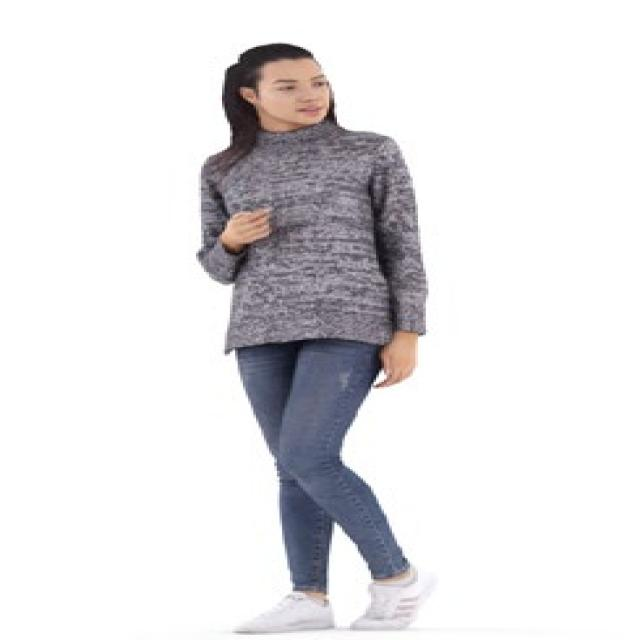standing: (192, 43, 434, 634)
